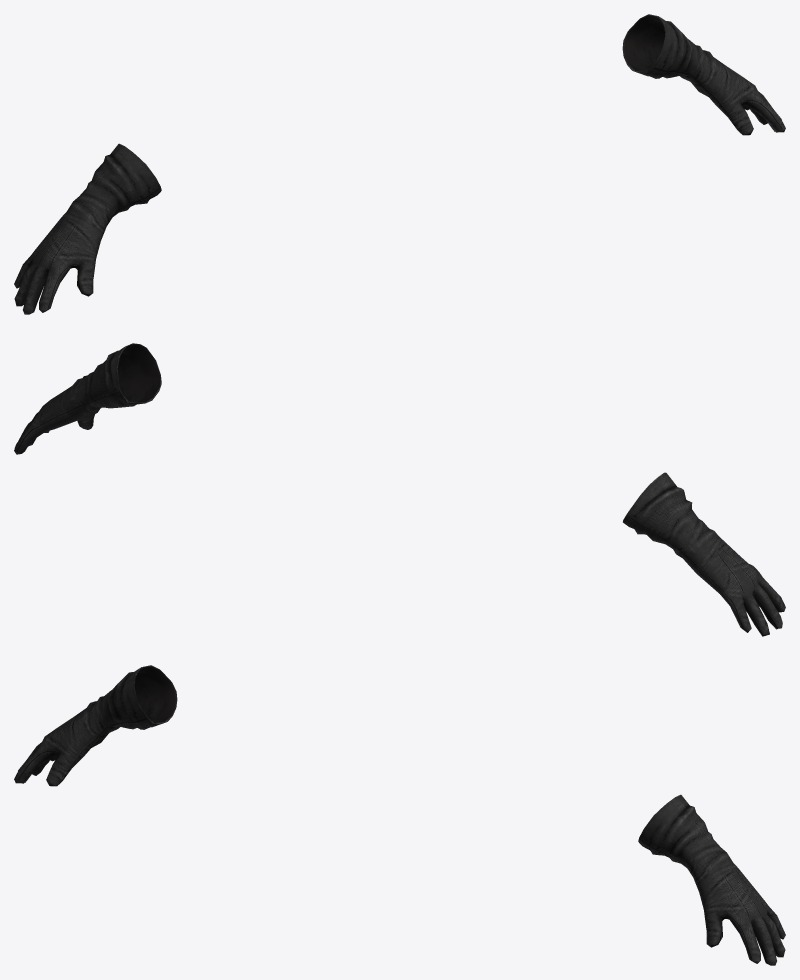
File: lrd_marines_gondor_1_gloves.fbx
3 renders of one model, top to bottom at view 1: azimuth 30°, elevation 25°; view 2: azimuth 150°, elevation 25°; view 3: azimuth 330°, elevation 25°, orthographic.
Visible parts, largest first — view 1: lrd_marines_gondor_1_gloves; view 2: lrd_marines_gondor_1_gloves; view 3: lrd_marines_gondor_1_gloves.
Boxes of the visible parts, x1=… form: lrd_marines_gondor_1_gloves: x1=14, y1=14, x2=785, y2=314; lrd_marines_gondor_1_gloves: x1=14, y1=343, x2=785, y2=636; lrd_marines_gondor_1_gloves: x1=14, y1=665, x2=785, y2=965.
Size of the model in its own units: 1.6 by 0.1692 by 0.2706.
Materials: 1 (1 with a texture image).
